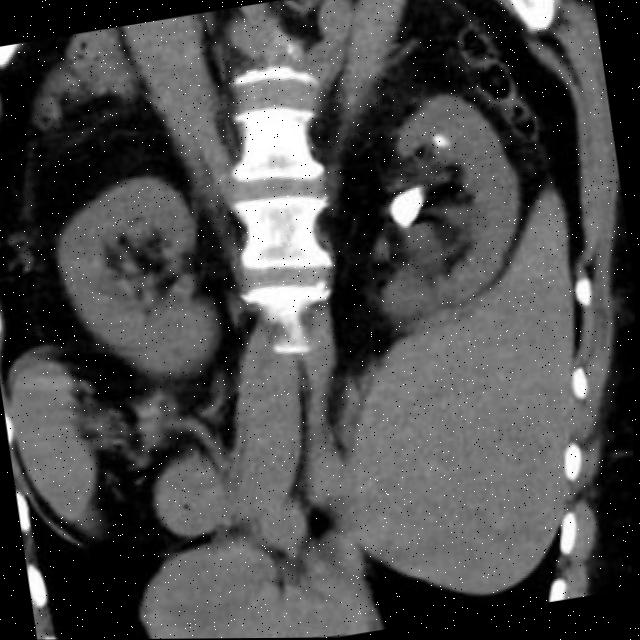Tas_Var: (386, 179, 438, 238), (436, 138, 449, 148), (433, 134, 445, 142)
